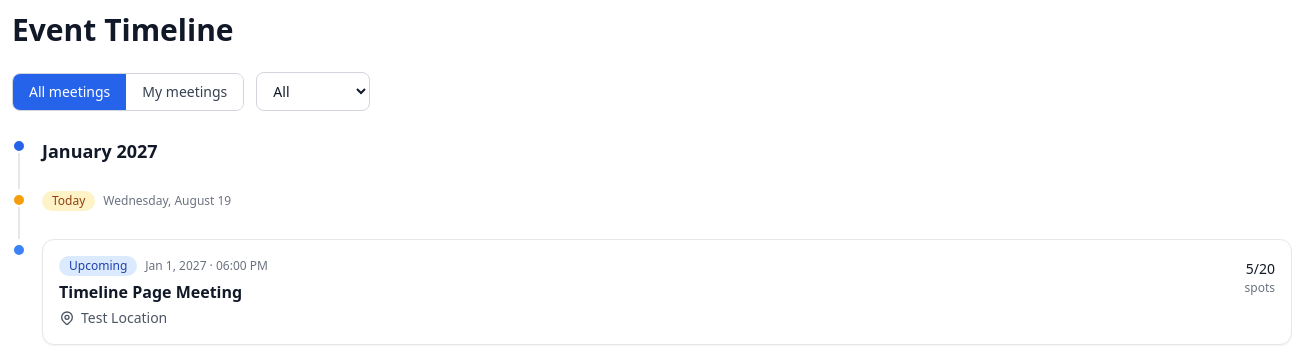
Scenario: TimelinePage › switches between all meetings and my meetings scope
The width and height of the screenshot is (1292, 362).
Click the button "My meetings" at (185, 92), box [126,74,243,110]
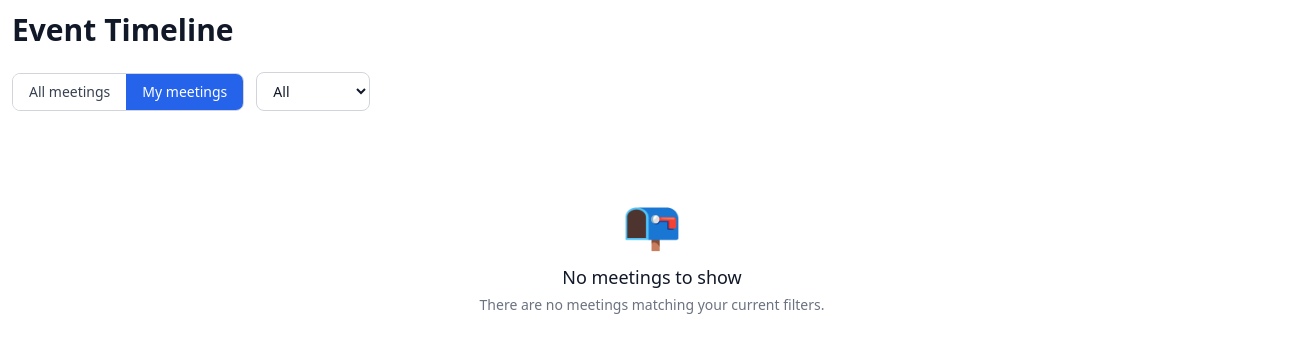
Now the text "No meetings to show" is shown, box [562,265,742,289]
